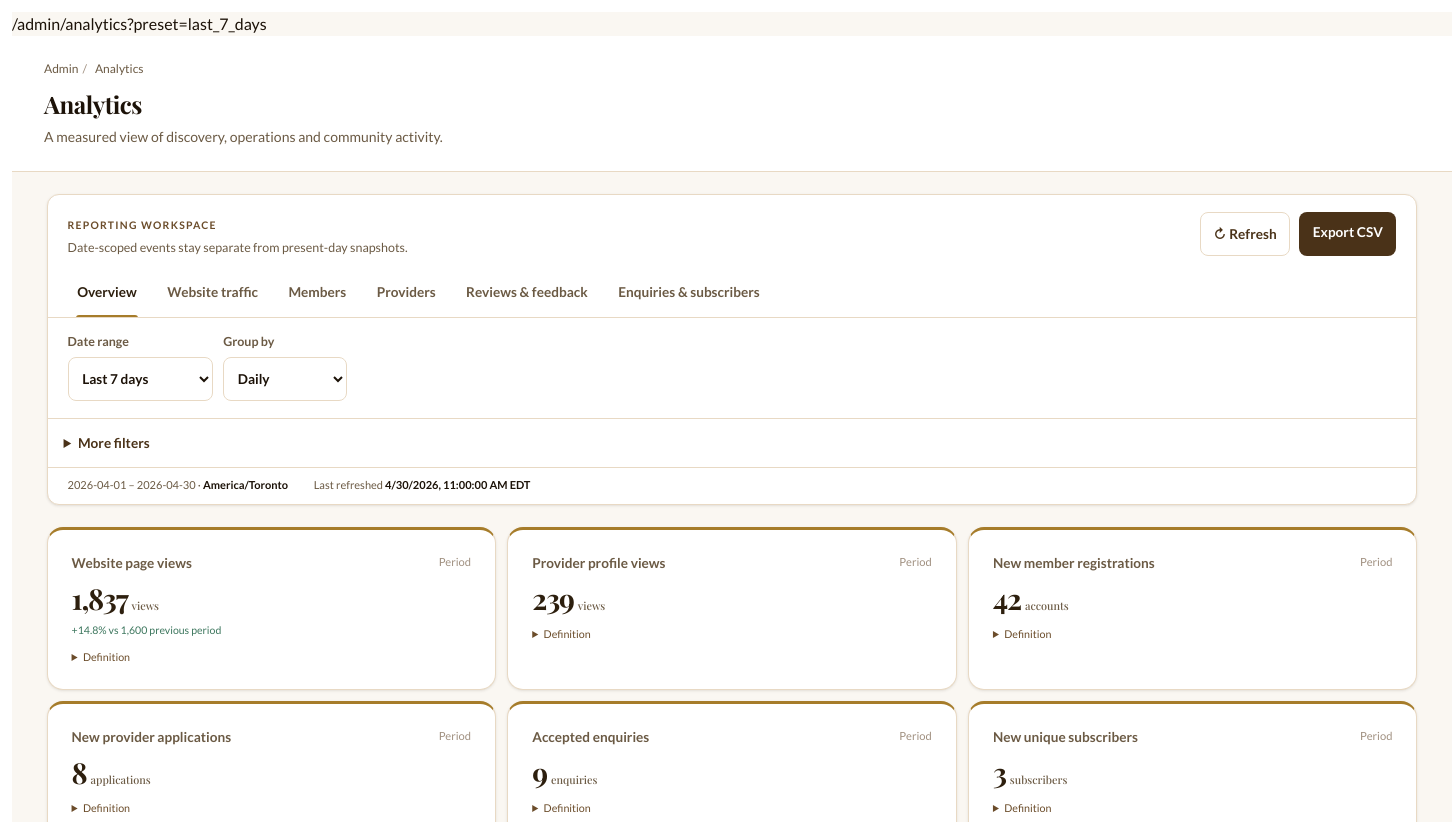
AnalyticsPage › persists selected section and date preset in the URL and loads scoped reports
Check: the text "1,837" is shown, box [72,579,128,617]
Click the tab "Members" at (317, 293), box [275,269,360,317]
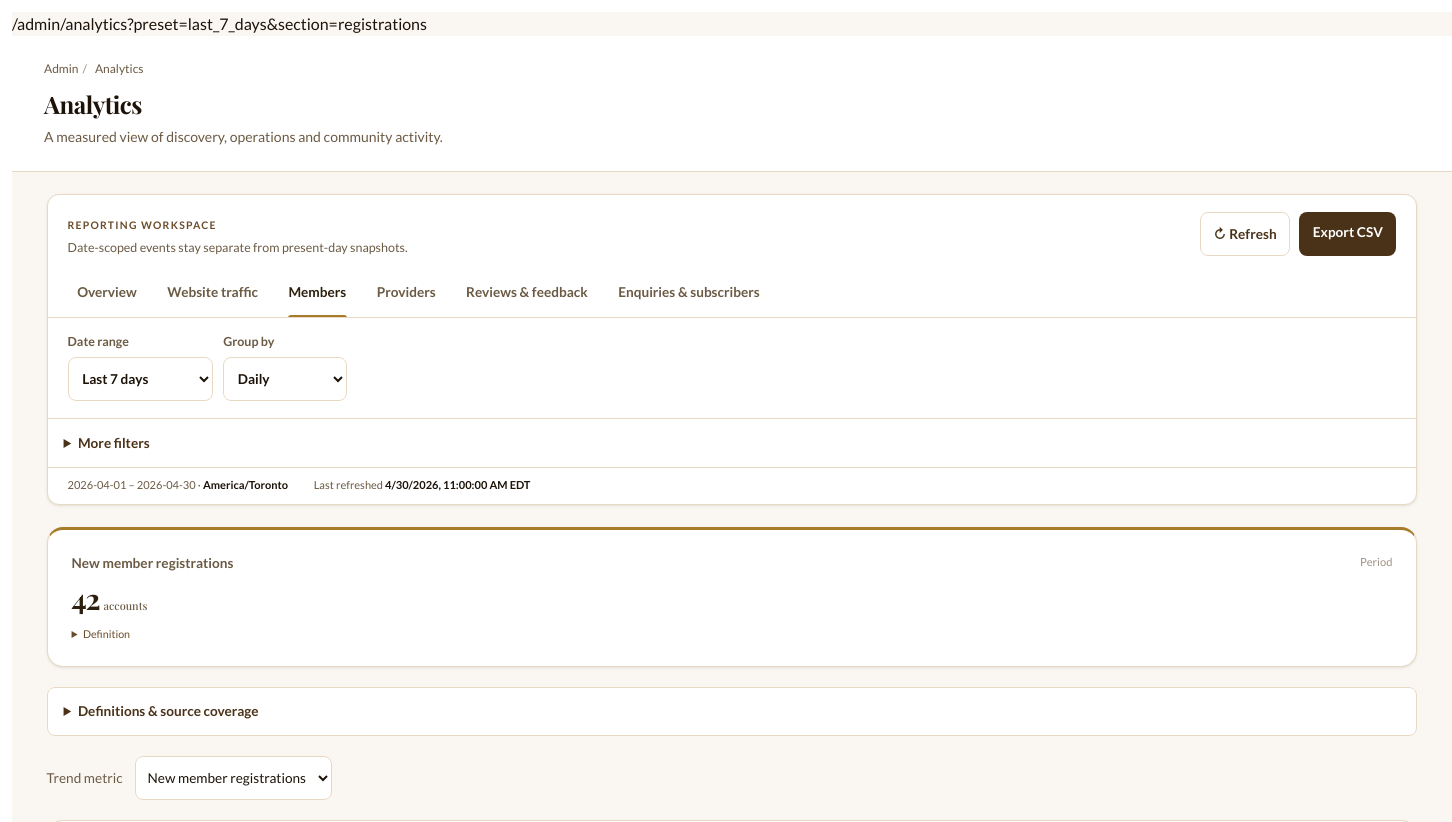
Check: the text with test id "location" shows "preset=last_7_days", box [127,14,427,33]
Check: the text with test id "location" shows "section=registrations", box [127,14,427,33]
